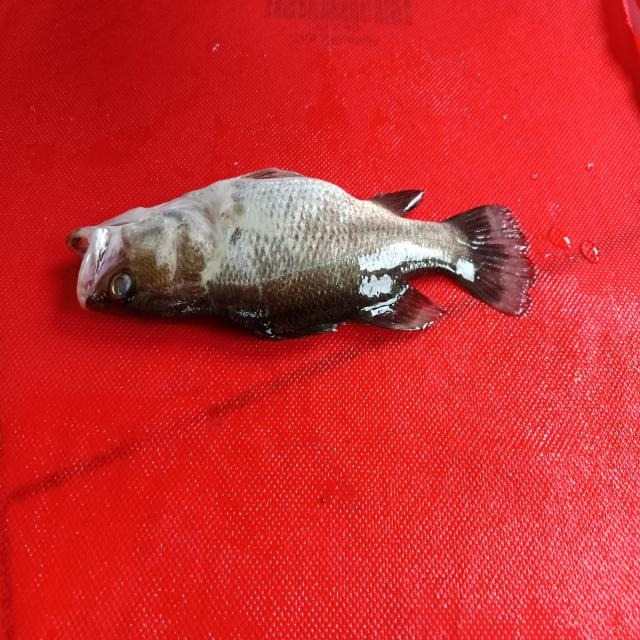ikan: (56, 144, 549, 364)
